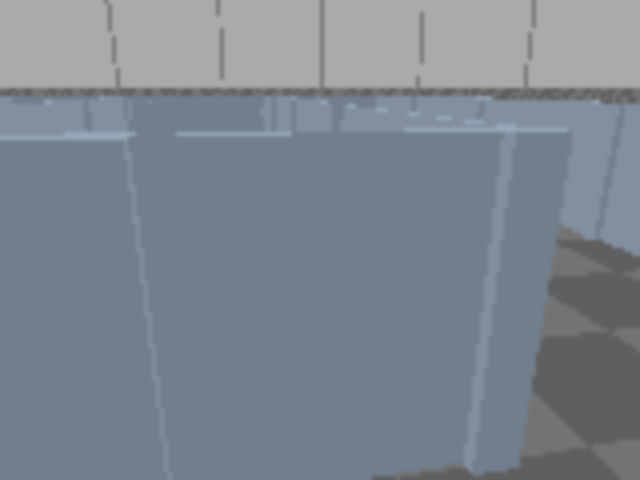person: (0, 0, 21, 252)
